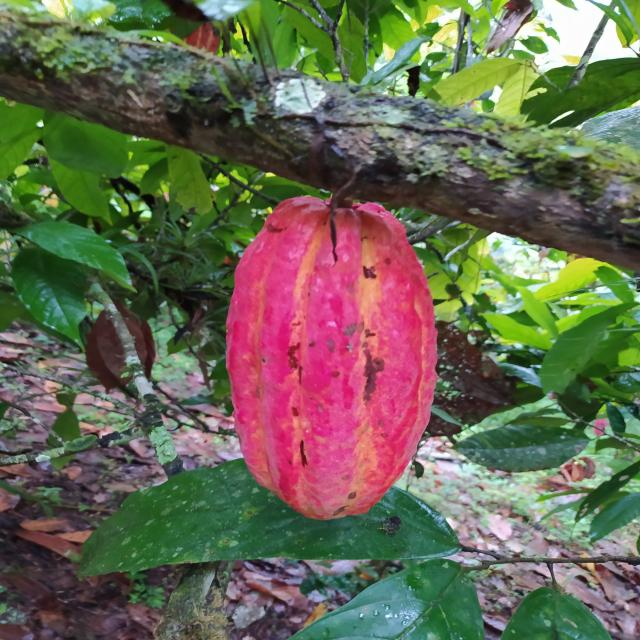Sana: (224, 194, 439, 519)
